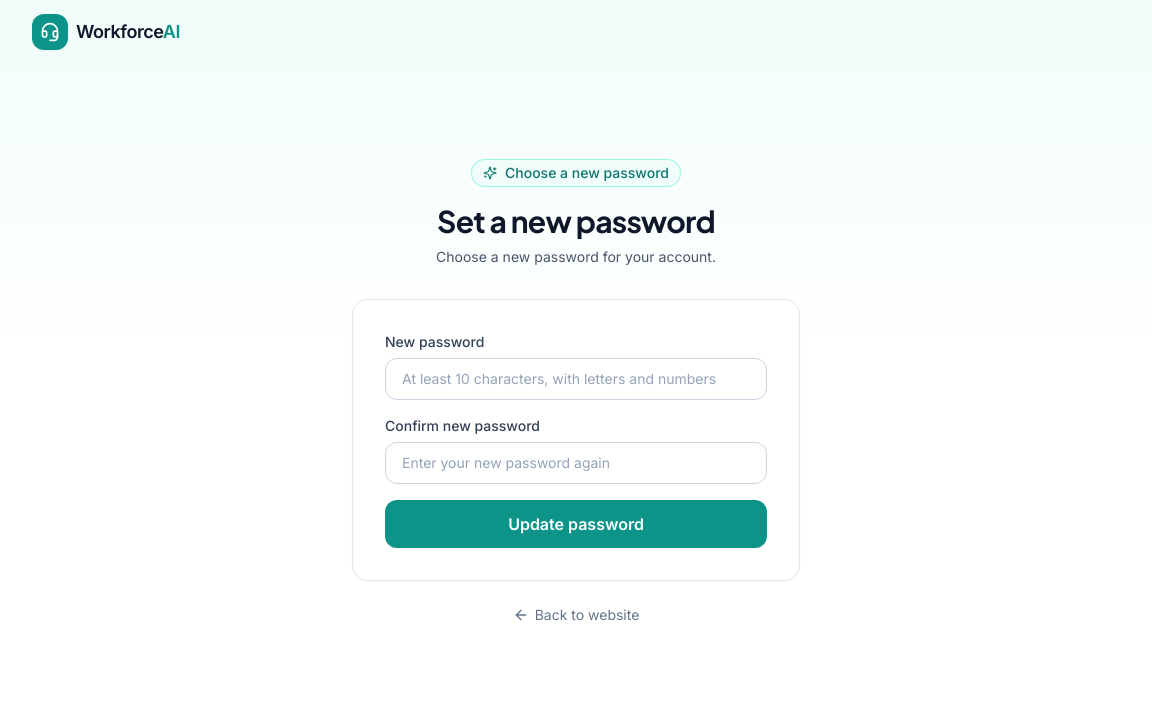
Test: AuthPage password recovery › does not update the password when confirmation does not match
Step 1. Type "new-password-123" into the password field labelled "New password" → {"x": 576, "y": 379}, box [385,358,767,400]
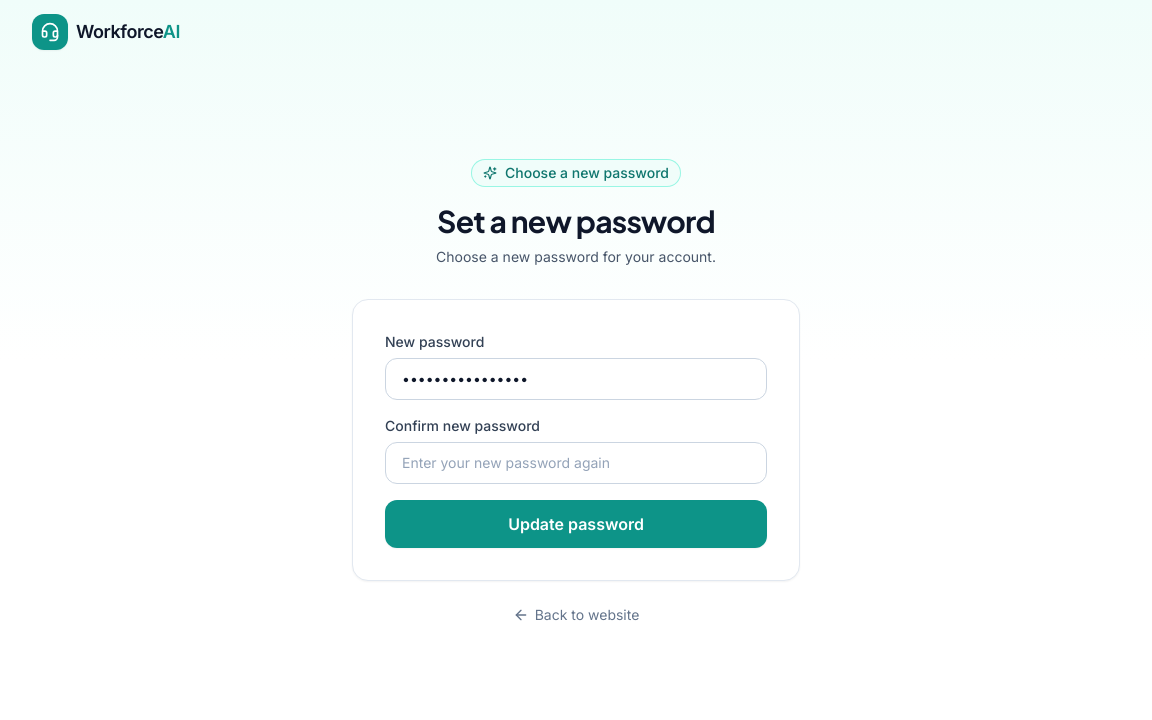
Step 2. Type "different-password" into the password field labelled "Confirm new password" → {"x": 576, "y": 463}, box [385,442,767,484]
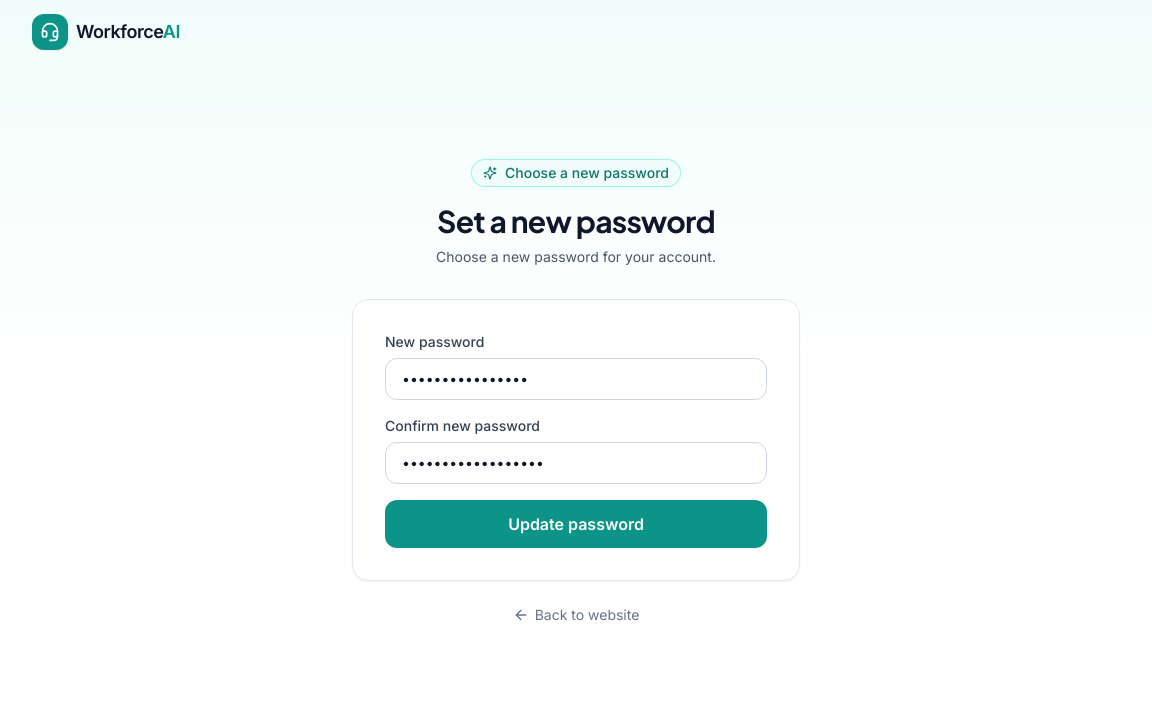
Step 3. Click the button "Update password" → {"x": 576, "y": 524}, box [385,500,767,548]
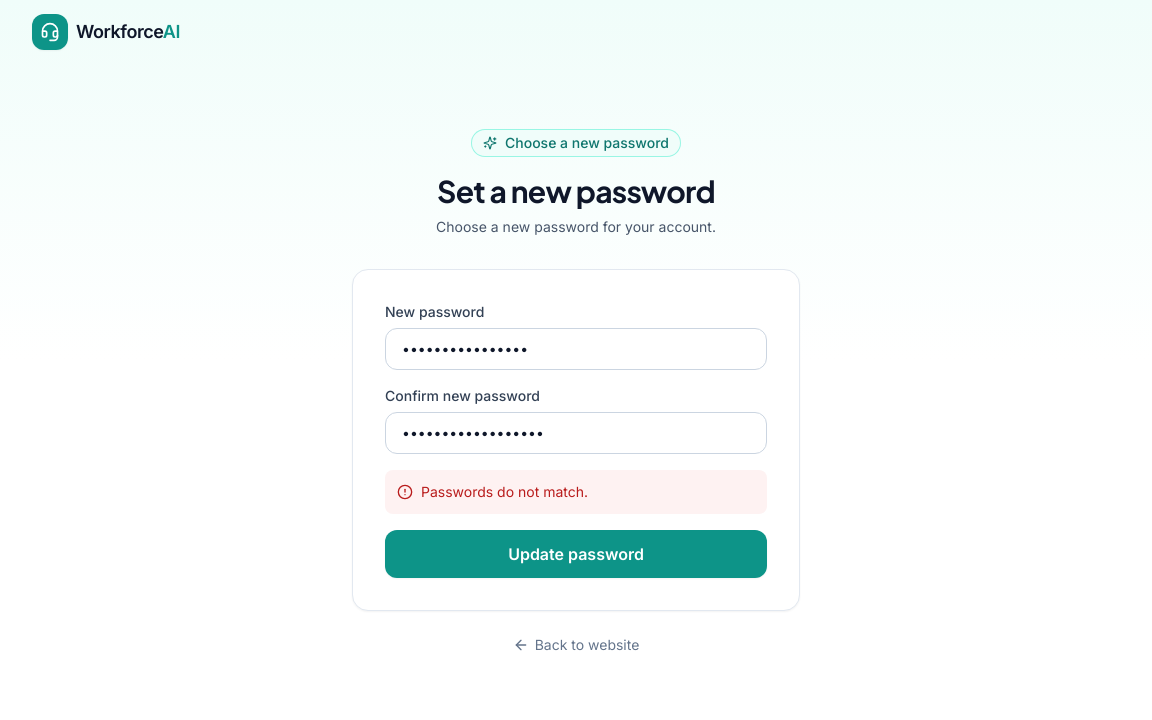
Result: the text "Passwords do not match." is shown at [421,482,588,502]
